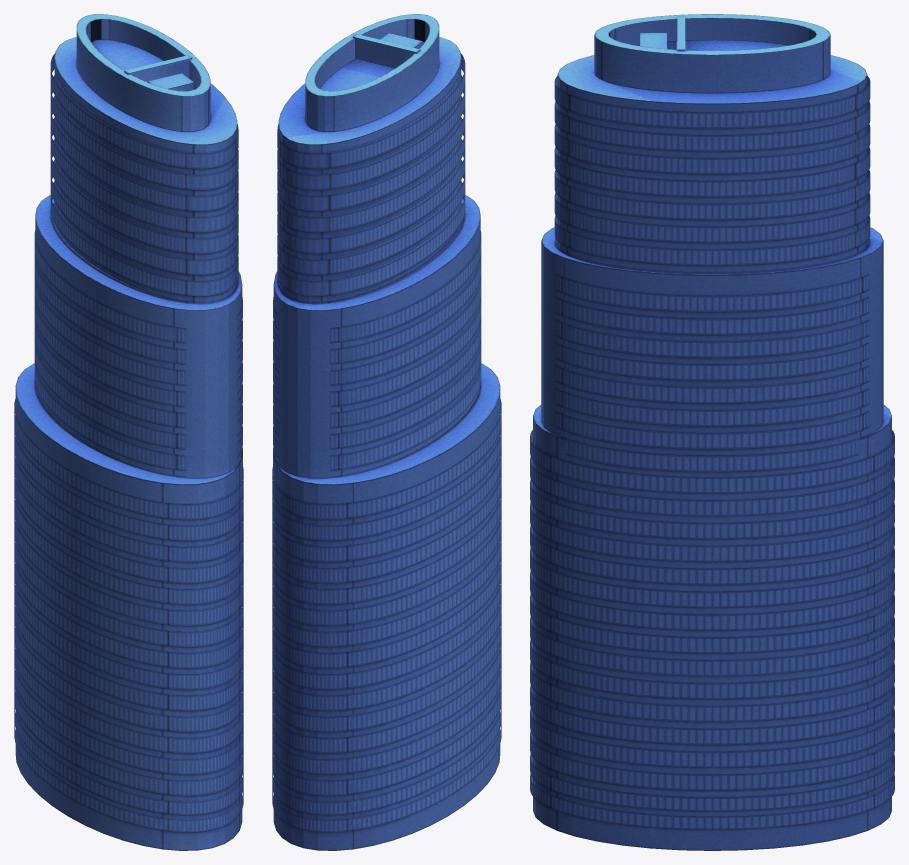
The model's file is lipstick_on.glb.
3 renders of one model, left to right at view 1: azimuth 30°, elevation 25°; view 2: azimuth 150°, elevation 25°; view 3: azimuth 270°, elevation 25°, orthographic. The views are drawn at different scales.
Visible parts, largest first — view 1: Empty_Mesh; view 2: Empty_Mesh; view 3: Empty_Mesh.
Boxes of the visible parts, box(x1,y1,x2,y2) form: Empty_Mesh: box(14, 14, 243, 850); Empty_Mesh: box(272, 14, 501, 850); Empty_Mesh: box(530, 14, 894, 850).
Size of the model in its own units: 5.54 by 24.91 by 10.49.
Materials: 1 (1 with a texture image).
